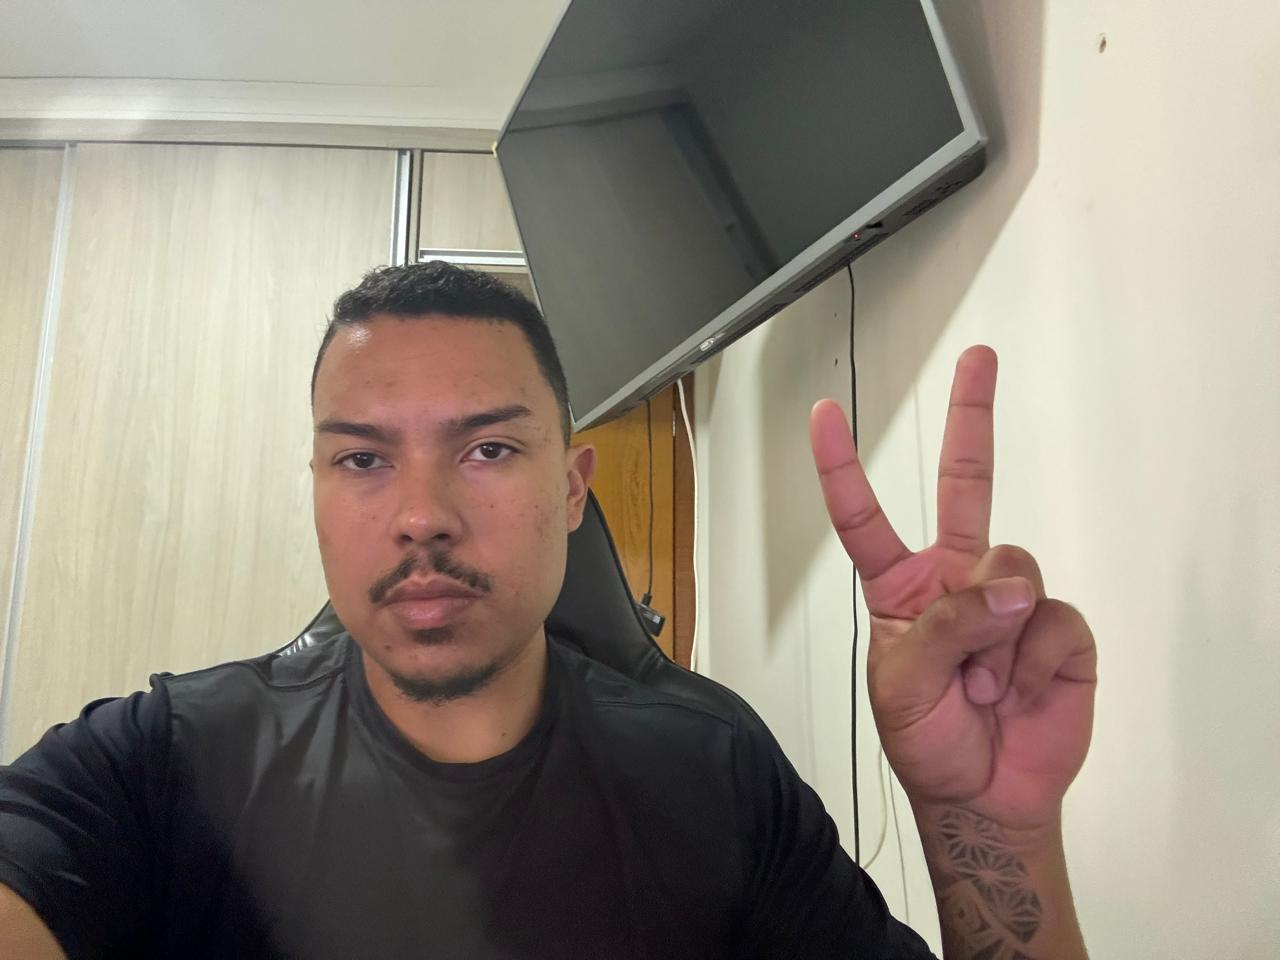v: (793, 335, 1108, 841)
